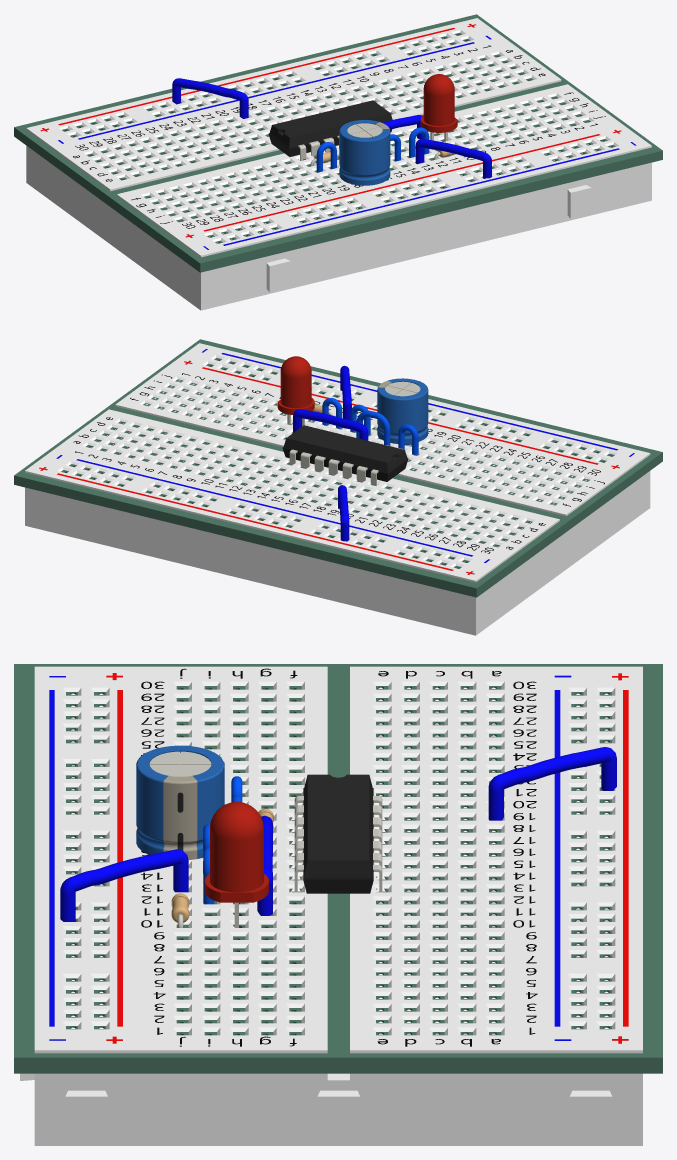
3 renders of one model, top to bottom at view 1: azimuth 30°, elevation 25°; view 2: azimuth 150°, elevation 25°; view 3: azimuth 270°, elevation 25°, orthographic. The views are drawn at different scales.
Parts seen in each view (by area): view 1: HalfBreadboard001, breadboard_PCB, HalfBreadboard, DIP-14_W7.62mm, CP_Radial_D80mm_P380mm, LED_D5.0mm, wire_12mm_Blue001, wire_12mm_Blue; view 2: HalfBreadboard001, breadboard_PCB, DIP-14_W7.62mm, HalfBreadboard, CP_Radial_D80mm_P380mm, LED_D5.0mm, wire_12mm_Blue002, wire_12mm_Blue001, wire_12mm_Blue; view 3: HalfBreadboard001, breadboard_PCB, DIP-14_W7.62mm, CP_Radial_D80mm_P380mm, HalfBreadboard, LED_D5.0mm, wire_12mm_Blue001, wire_12mm_Blue, wire_12mm_Blue002.
Part boxes in pixels (x1,y1,x2,y2): HalfBreadboard001: (26, 18, 651, 304); breadboard_PCB: (14, 14, 662, 272); HalfBreadboard: (26, 177, 651, 310); DIP-14_W7.62mm: (268, 100, 392, 160); CP_Radial_D80mm_P380mm: (339, 120, 390, 185); LED_D5.0mm: (420, 74, 457, 141); wire_12mm_Blue001: (172, 78, 248, 118); wire_12mm_Blue: (415, 138, 491, 178); HalfBreadboard001: (25, 343, 650, 629); breadboard_PCB: (14, 339, 662, 597); DIP-14_W7.62mm: (282, 425, 408, 485); HalfBreadboard: (25, 502, 650, 635); CP_Radial_D80mm_P380mm: (377, 378, 428, 445); LED_D5.0mm: (277, 356, 314, 426); wire_12mm_Blue002: (293, 409, 368, 440); wire_12mm_Blue001: (338, 485, 349, 541); wire_12mm_Blue: (340, 365, 351, 420); HalfBreadboard001: (20, 666, 642, 1141); breadboard_PCB: (14, 664, 662, 1073); DIP-14_W7.62mm: (294, 774, 382, 893); CP_Radial_D80mm_P380mm: (136, 745, 224, 859); HalfBreadboard: (34, 1135, 642, 1145); LED_D5.0mm: (204, 802, 268, 927); wire_12mm_Blue001: (488, 747, 616, 820); wire_12mm_Blue: (60, 849, 188, 921); wire_12mm_Blue002: (257, 815, 272, 915).
Size of the model in its own units: 8.42 by 2.09 by 5.84.
